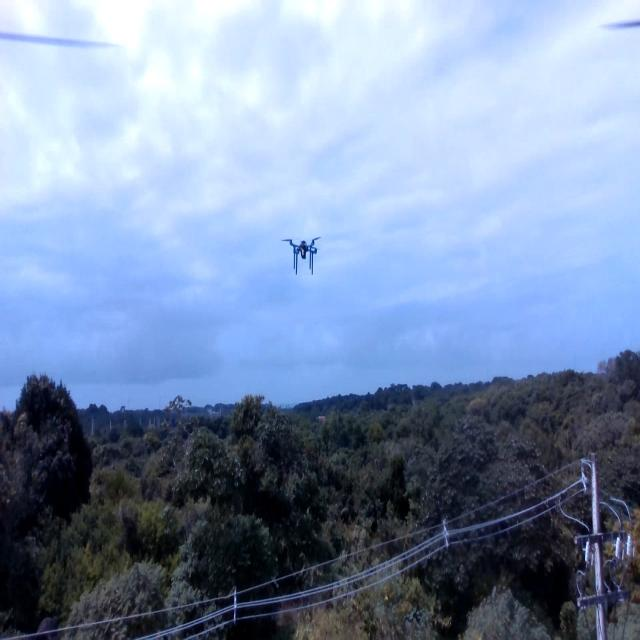-uav-: (276, 222, 327, 283)
